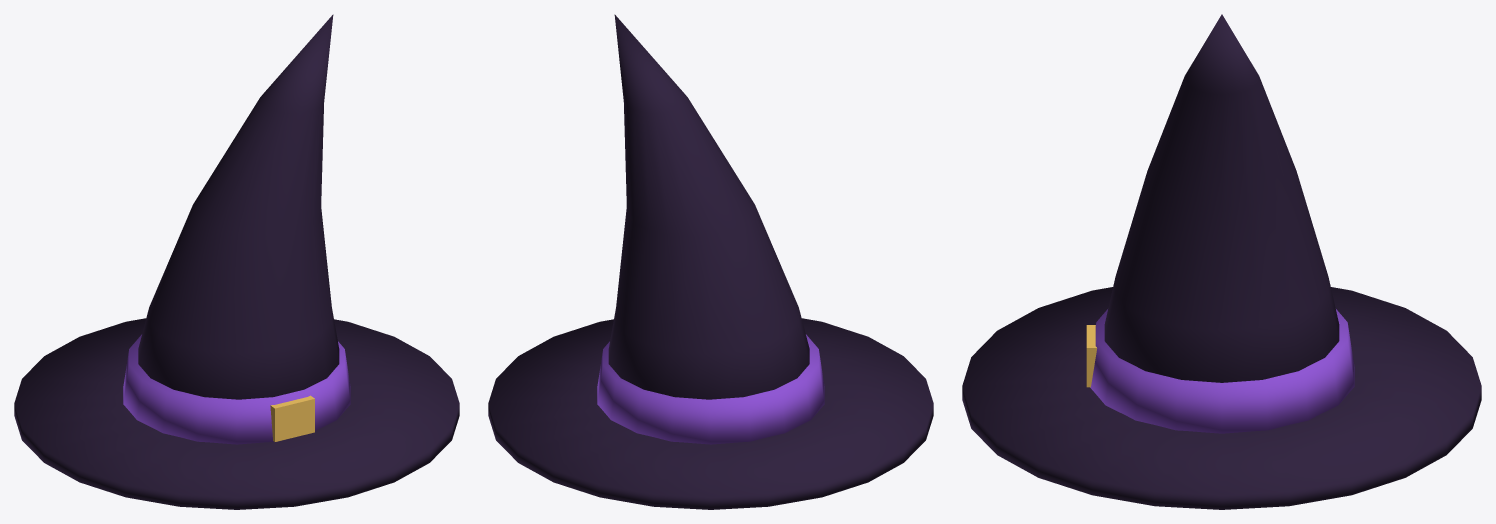
Rendered from witch-hat.glb.
3 views of the same model, side by side, from view 1: azimuth 30°, elevation 25°; view 2: azimuth 150°, elevation 25°; view 3: azimuth 270°, elevation 25° (orthographic). The views are drawn at different scales.
Parts seen in each view (by area): view 1: witch-hat; view 2: witch-hat; view 3: witch-hat.
Part boxes in pixels (box(x1,y1,x2,y2)): witch-hat: box(14, 14, 459, 509); witch-hat: box(488, 14, 933, 509); witch-hat: box(962, 14, 1481, 509).
Bounding box in the file's own units: 0.48 × 0.45 × 0.48.
